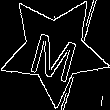M_N: (26, 20, 82, 80)
